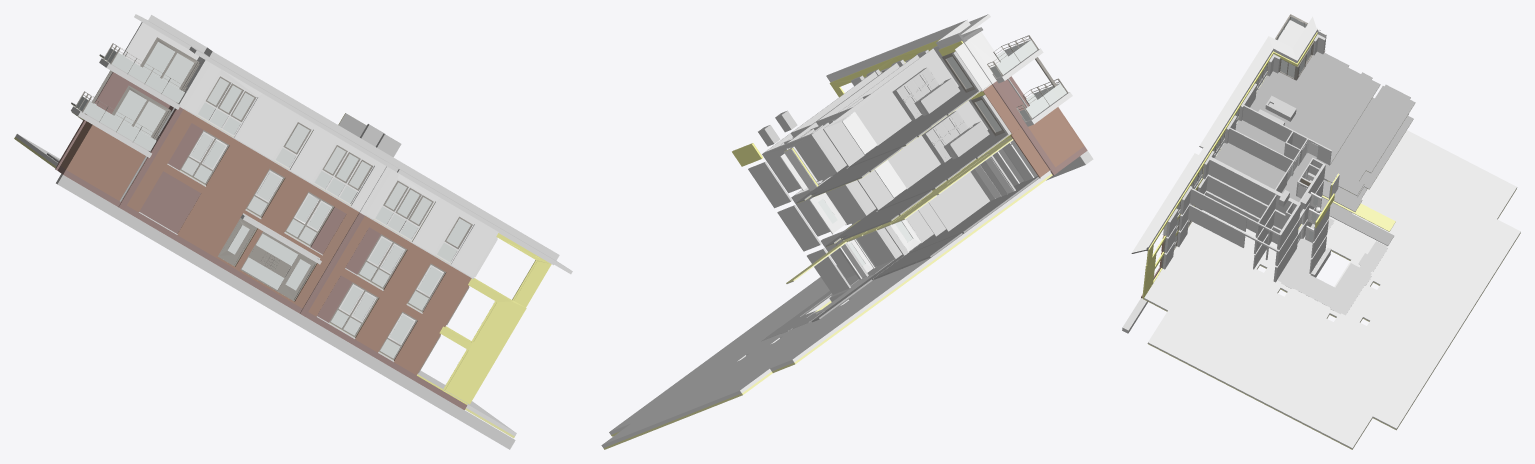
The picture shows the model from 3 angles, left to right: view 1: azimuth 30°, elevation 25°; view 2: azimuth 150°, elevation 25°; view 3: azimuth 270°, elevation 25°; orthographic projection. The views are drawn at different scales.
Visible parts, largest first — view 1: mesh; view 2: mesh; view 3: mesh.
Part boxes in pixels (x1=…): mesh: x1=14, y1=14, x2=572, y2=449; mesh: x1=601, y1=14, x2=1093, y2=449; mesh: x1=1122, y1=14, x2=1520, y2=449.
Size of the model in its own units: 28.74 by 29.68 by 33.46.
